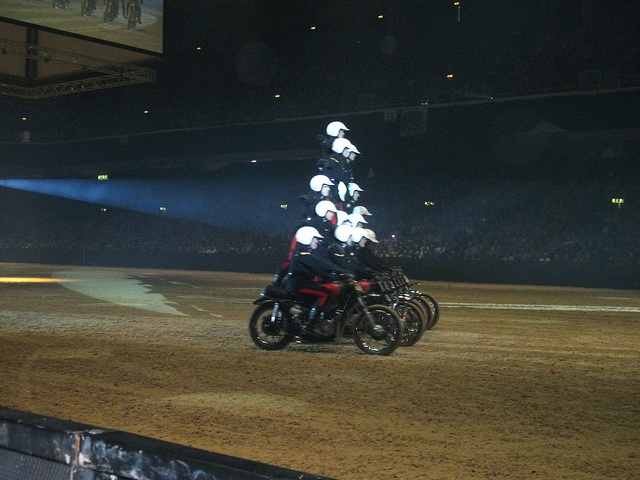non-vehicle: (247, 272, 403, 353), (356, 270, 426, 348), (391, 266, 442, 329), (379, 268, 429, 329), (383, 270, 433, 327)
